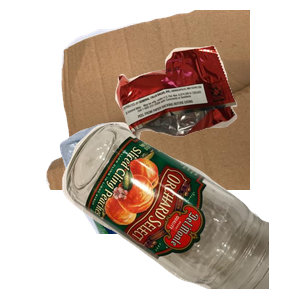cardboard: (43, 10, 283, 190)
glass: (60, 120, 300, 300)
plastic: (57, 120, 284, 300)
trash: (113, 43, 300, 181)
